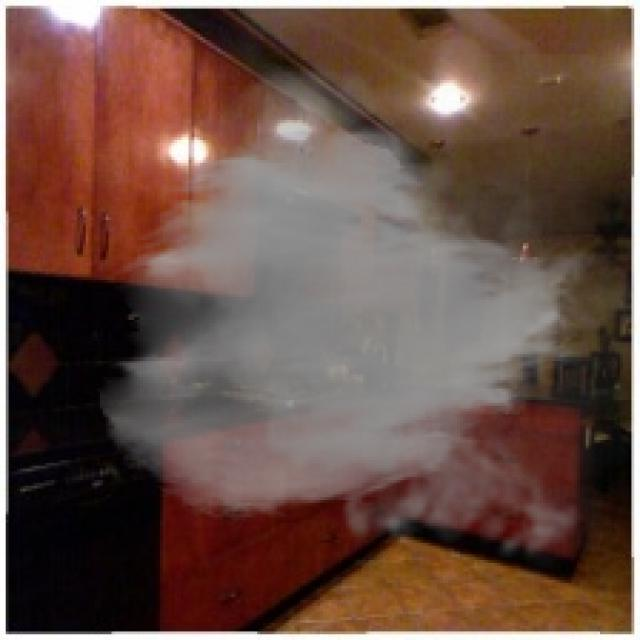Smoke: (95, 54, 634, 574)
